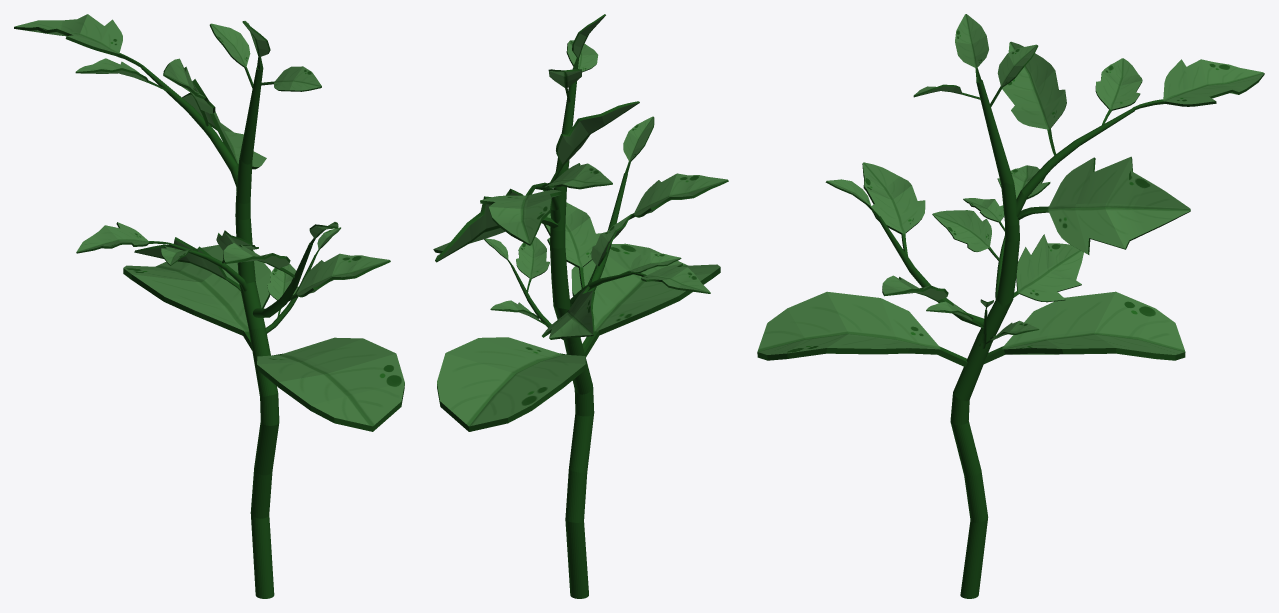
The model's file is tomatoGrowingStage2.fbx.
3 renders of one model, left to right at view 1: azimuth 30°, elevation 25°; view 2: azimuth 150°, elevation 25°; view 3: azimuth 270°, elevation 25°, orthographic. The views are drawn at different scales.
Parts seen in each view (by area): view 1: leaf, stem, leaf.001, leaf.006, leaf.011, leaf.013, leaf.005, stem.002, leaf.012, leaf.004, leaf.003, leaf.008 (+4 smaller); view 2: leaf.001, stem, leaf, leaf.006, leaf.010, leaf.011, leaf.008, leaf.005, leaf.012, leaf.013, leaf.007, leaf.017 (+8 smaller); view 3: leaf, leaf.001, leaf.005, stem, leaf.006, leaf.008, leaf.012, leaf.010, leaf.007, leaf.015, leaf.002, stem.002 (+4 smaller).
Part boxes in pixels (x1=…): leaf: x1=257, y1=337, x2=404, y2=431; stem: x1=235, y1=67, x2=279, y2=598; leaf.001: x1=123, y1=245, x2=270, y2=350; leaf.006: x1=14, y1=14, x2=143, y2=67; leaf.011: x1=288, y1=253, x2=390, y2=301; leaf.013: x1=76, y1=222, x2=170, y2=253; leaf.005: x1=182, y1=79, x2=266, y2=190; stem.002: x1=141, y1=65, x2=238, y2=187; leaf.012: x1=134, y1=237, x2=240, y2=291; leaf.004: x1=260, y1=66, x2=321, y2=91; leaf.003: x1=209, y1=23, x2=253, y2=88; leaf.008: x1=163, y1=58, x2=215, y2=126; leaf.001: x1=437, y1=337, x2=585, y2=431; stem: x1=550, y1=81, x2=594, y2=598; leaf: x1=571, y1=243, x2=720, y2=357; leaf.006: x1=480, y1=185, x2=562, y2=245; leaf.010: x1=629, y1=173, x2=728, y2=219; leaf.011: x1=543, y1=202, x2=600, y2=288; leaf.008: x1=550, y1=101, x2=639, y2=182; leaf.005: x1=433, y1=188, x2=558, y2=262; leaf.012: x1=542, y1=286, x2=594, y2=339; leaf.013: x1=631, y1=263, x2=710, y2=293; leaf.007: x1=542, y1=163, x2=612, y2=189; leaf.017: x1=516, y1=237, x2=549, y2=291; leaf: x1=757, y1=291, x2=967, y2=367; leaf.001: x1=983, y1=291, x2=1185, y2=364; leaf.005: x1=1017, y1=156, x2=1190, y2=254; stem: x1=950, y1=79, x2=1019, y2=598; leaf.006: x1=1133, y1=59, x2=1264, y2=110; leaf.008: x1=1002, y1=41, x2=1066, y2=155; leaf.012: x1=1013, y1=234, x2=1083, y2=302; leaf.010: x1=862, y1=162, x2=925, y2=256; leaf.007: x1=1095, y1=58, x2=1142, y2=124; leaf.015: x1=932, y1=210, x2=1000, y2=261; leaf.002: x1=955, y1=14, x2=988, y2=82; stem.002: x1=1016, y1=108, x2=1134, y2=216.
Size of the model in its own units: 33.42 by 75.75 by 61.09.
